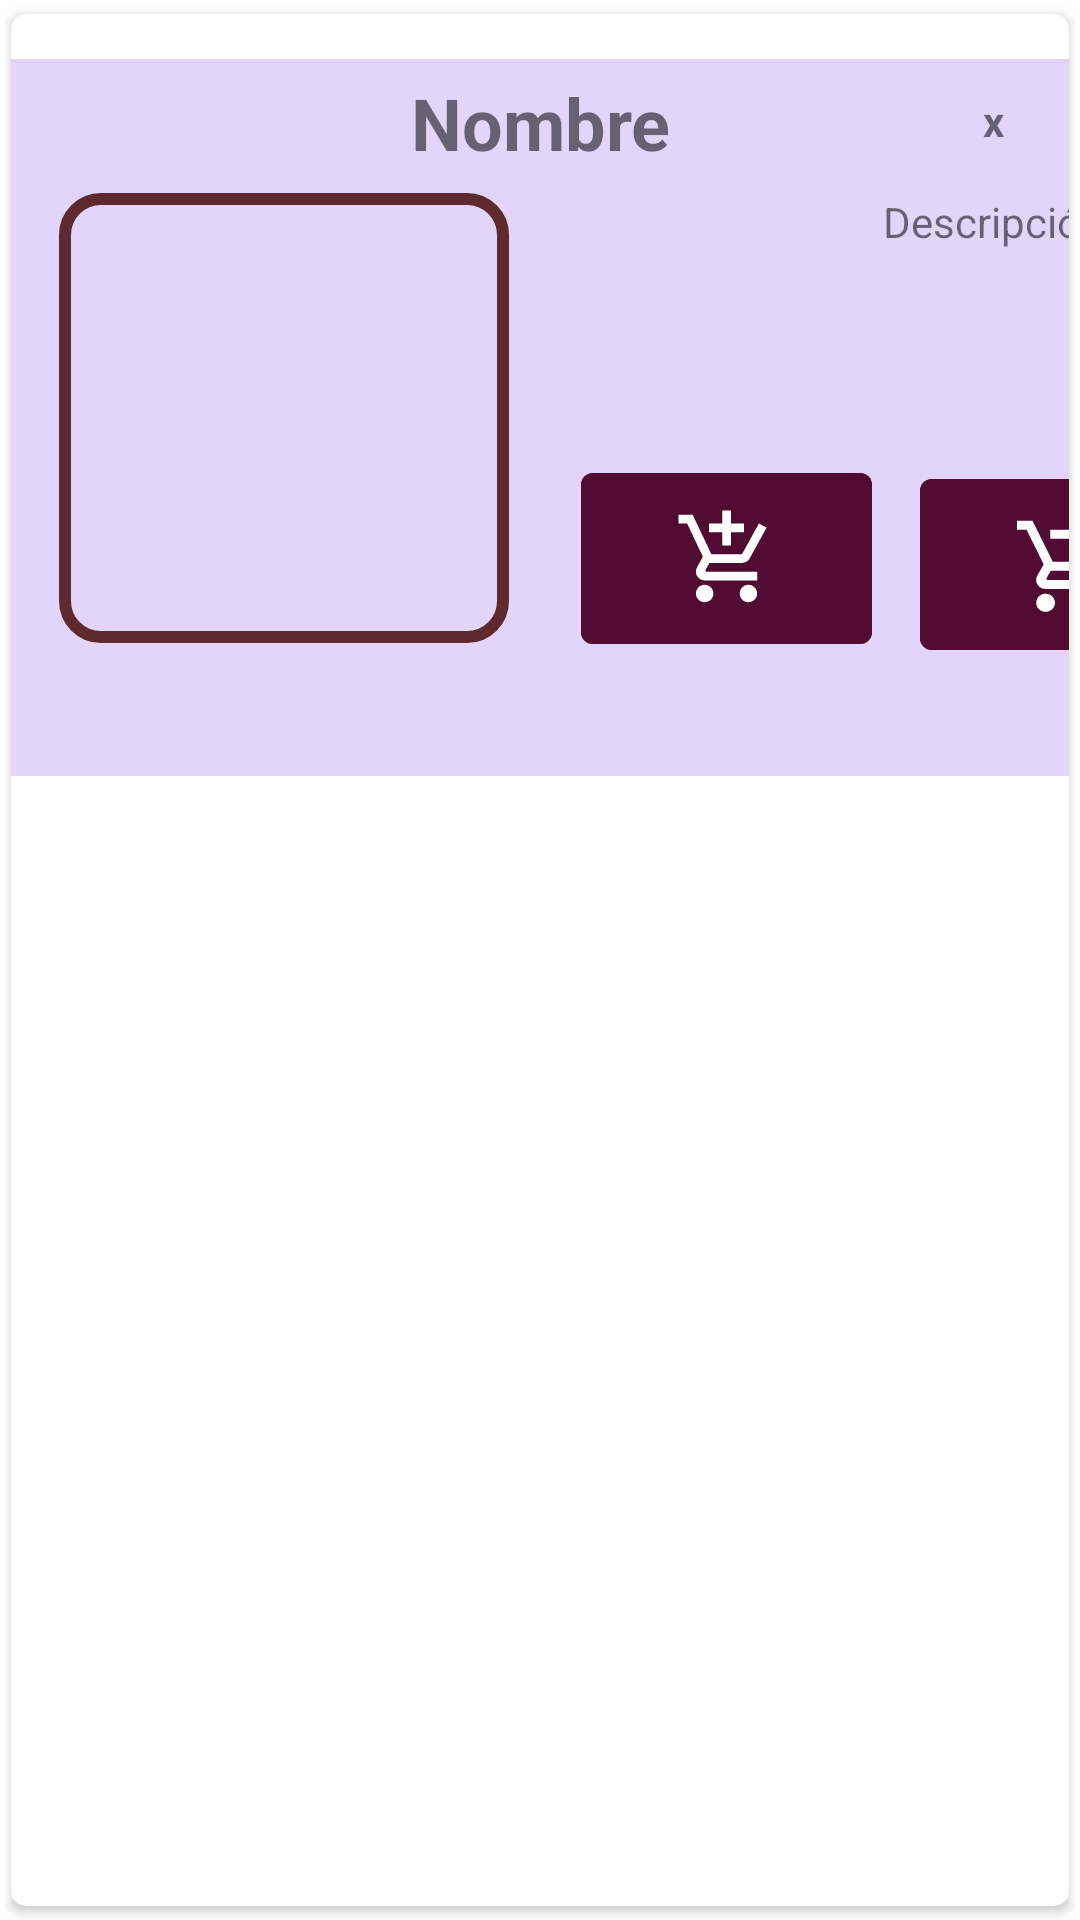

Icons on this 1080px x 1920px Android screen, each with its box as box(x1, y1, x2, y2):
add shopping cart: box(581, 473, 872, 644)
